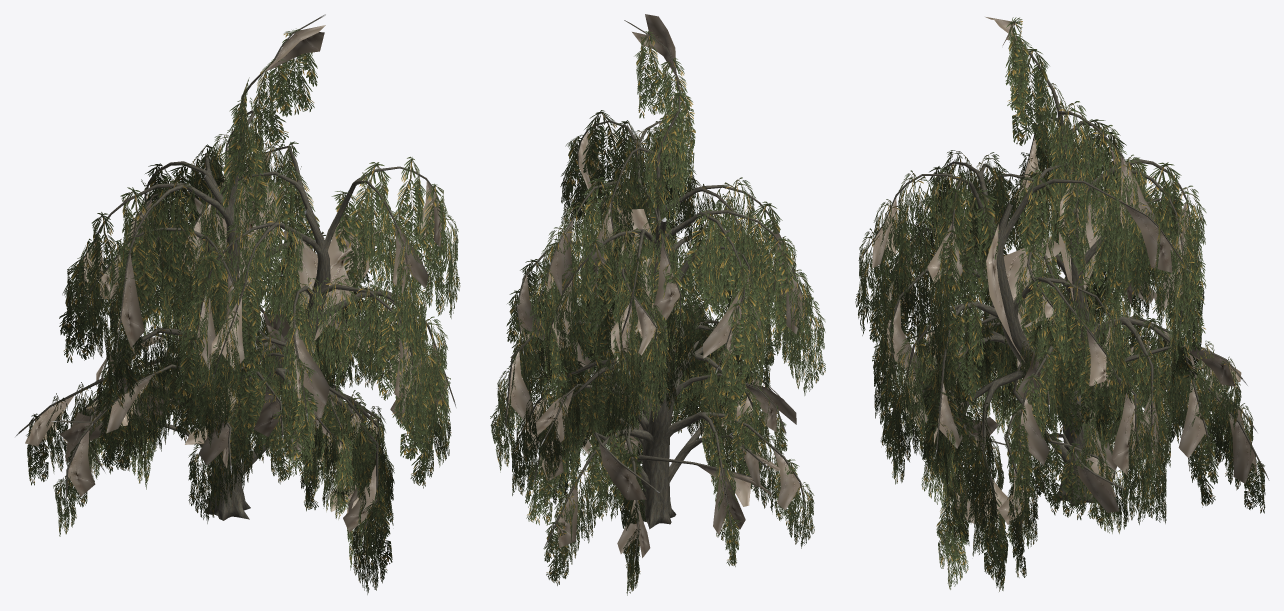
Rendered from MarshWillow_10.fbx.
3 views of the same model, side by side, from view 1: azimuth 30°, elevation 25°; view 2: azimuth 150°, elevation 25°; view 3: azimuth 270°, elevation 25° (orthographic). The views are drawn at different scales.
Parts seen in each view (by area): view 1: MarshWillow_10; view 2: MarshWillow_10; view 3: MarshWillow_10.
Boxes of the visible parts, box(x1,y1,x2,y2) form: MarshWillow_10: box(15, 14, 460, 594); MarshWillow_10: box(490, 14, 825, 595); MarshWillow_10: box(855, 17, 1269, 591).
Size of the model in its own units: 32.81 by 50.54 by 33.8.
